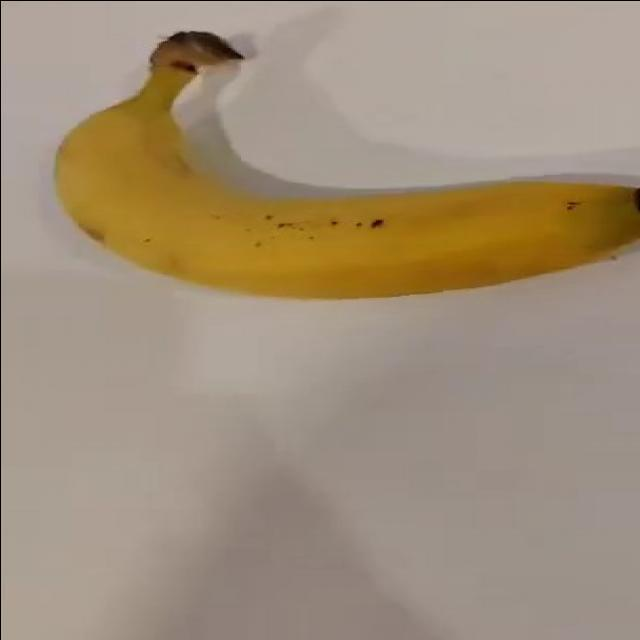Banana: (53, 29, 639, 300)
